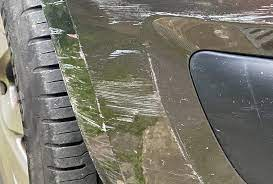scratch: (104, 74, 154, 127)
